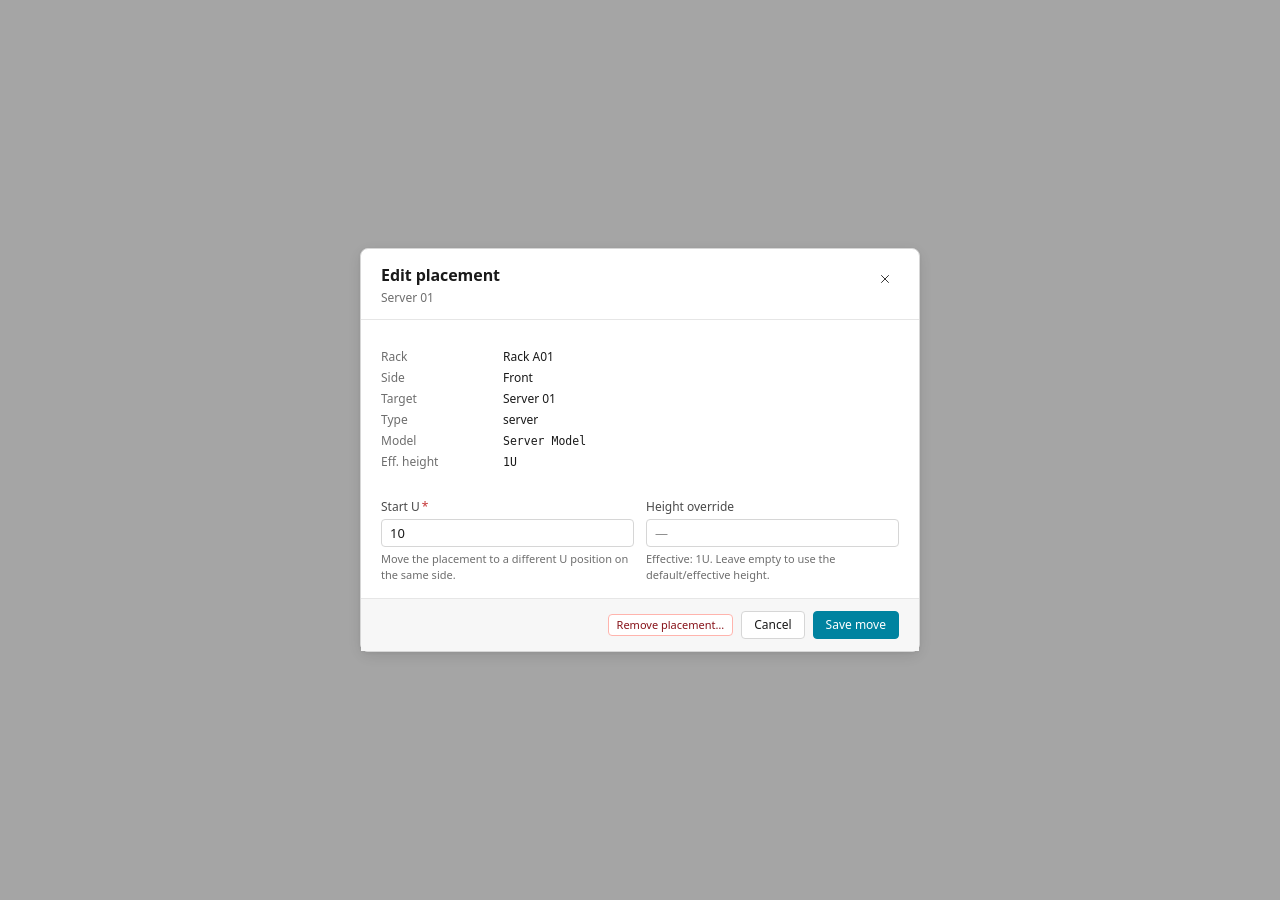
Test: EditPlacementModal — open › shows validation error when start U is invalid
Step 1. Replace the text in the number field with test id "start-u-input" with "abc" → (508, 533), box x1=381 y1=519 x2=634 y2=547
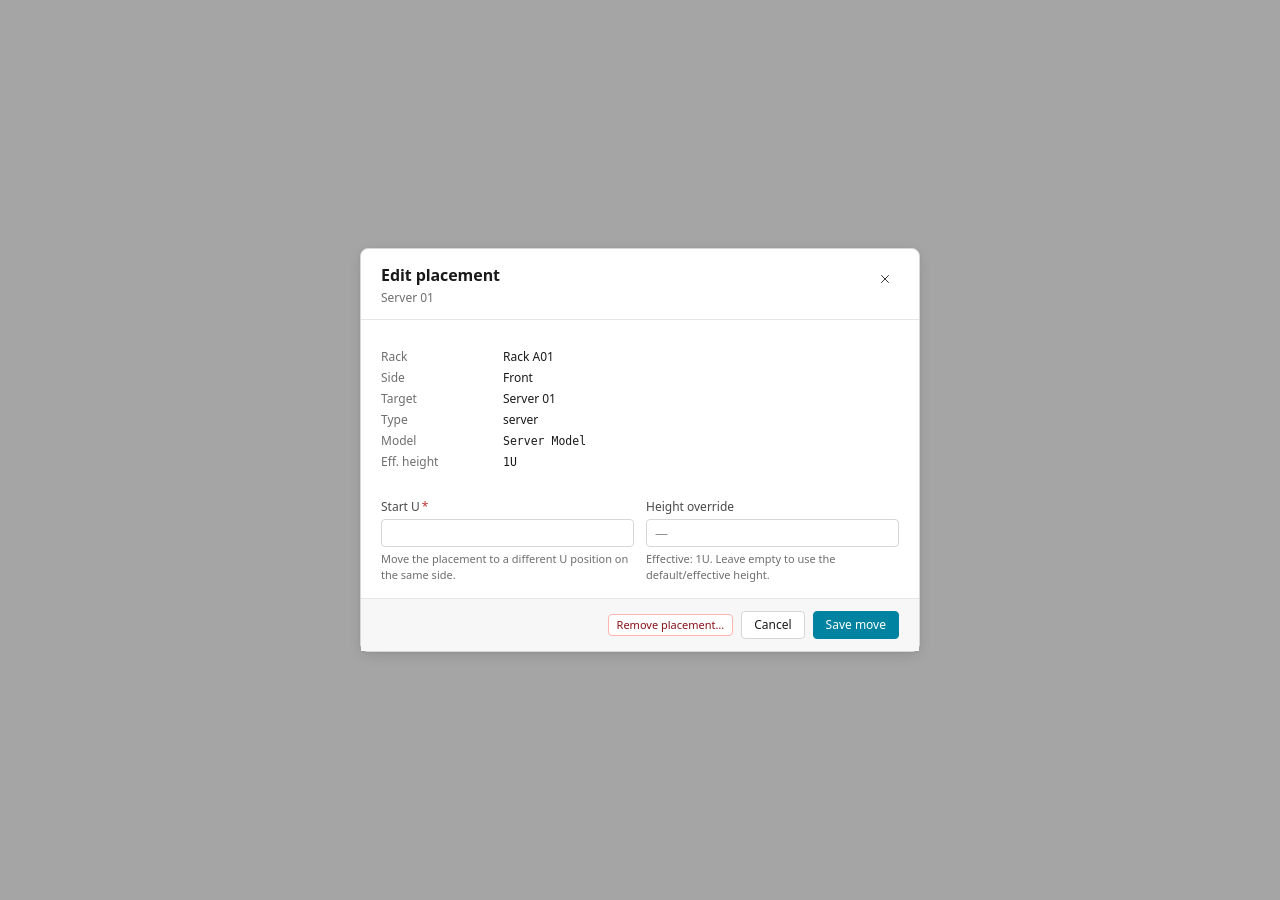
Step 2. Click the button with test id "save-btn" → (856, 625), box x1=813 y1=611 x2=899 y2=639
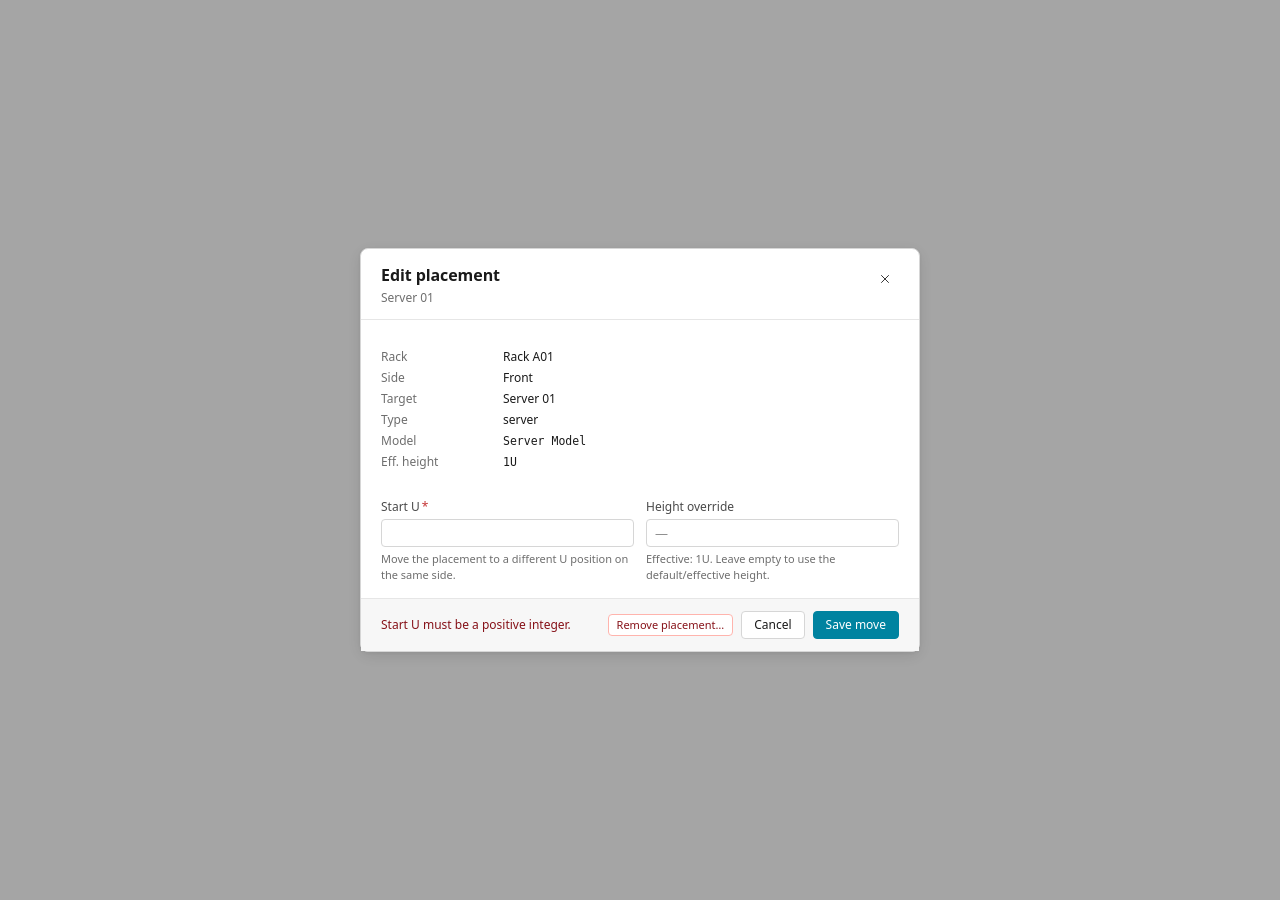
Check: the text "Start U must be a positive integer." is shown, box x1=381 y1=616 x2=571 y2=633
